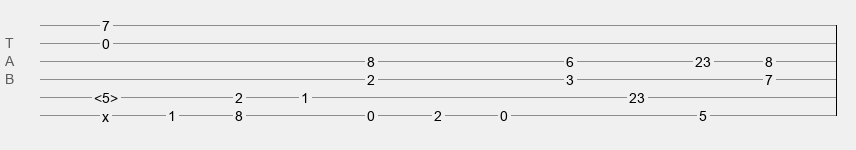0: (102, 36, 110, 46), (367, 108, 375, 118), (500, 108, 508, 118)
1: (168, 108, 176, 118), (301, 90, 309, 100)
2: (235, 90, 243, 100), (367, 72, 375, 82), (434, 108, 442, 118)
23: (629, 90, 645, 100), (695, 54, 711, 64)
3: (566, 72, 574, 82)
5: (699, 108, 707, 118)
6: (566, 54, 574, 64)
7: (102, 18, 110, 28), (765, 72, 773, 82)
8: (235, 108, 243, 118), (367, 54, 375, 64), (765, 54, 773, 64)
harmonic: (94, 90, 118, 100)
x: (102, 109, 109, 117)
